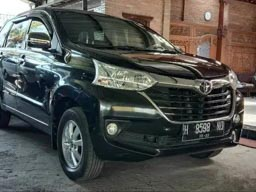plat: (183, 120, 224, 132)
